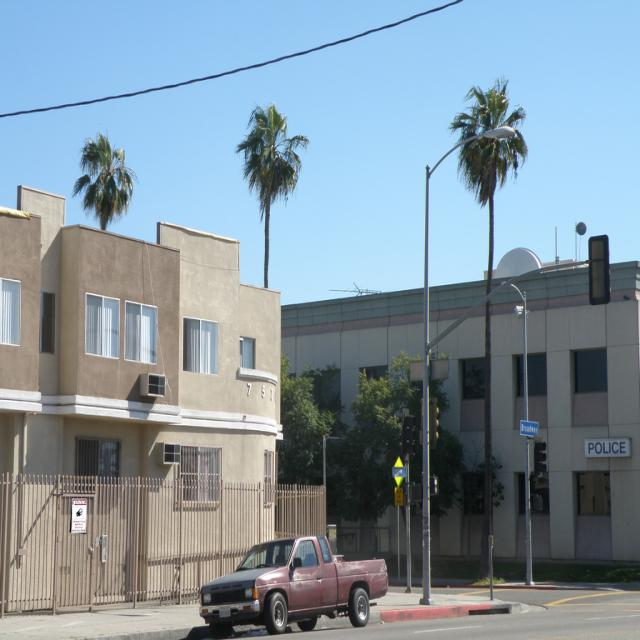car: (200, 533, 389, 636)
